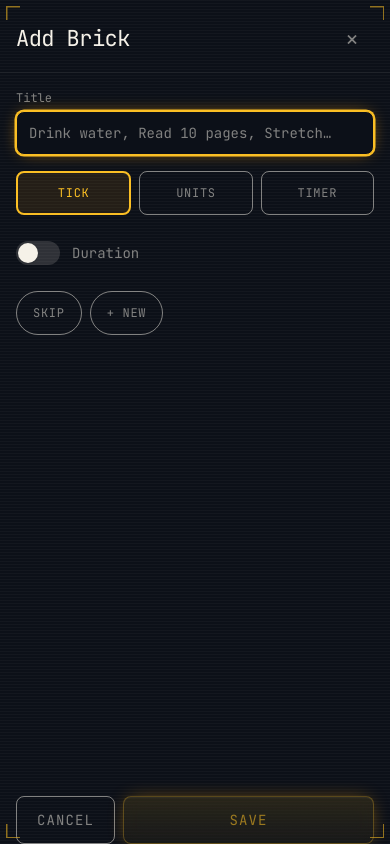
Scenario: C-m3-014: AddBrickSheet type selector › clicking back to Tick hides all per-type fields
The width and height of the screenshot is (390, 844).
What coordinates should you click on to do the following:
click the radio button labelled "Units"
I would click on:
 (196, 193)
Its box is [139, 171, 253, 215].
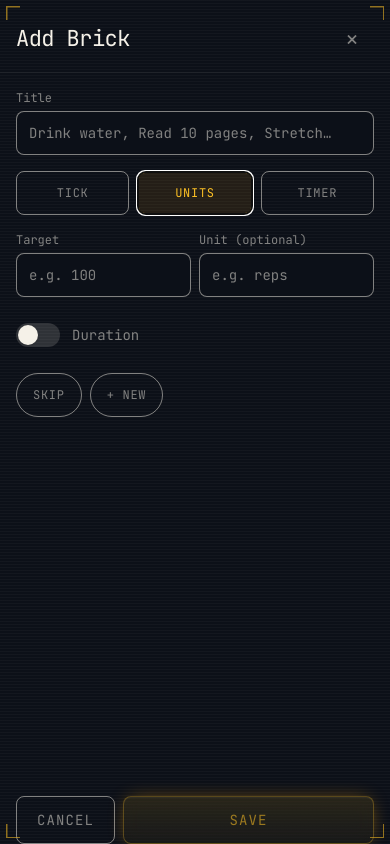
What coordinates should you click on to do the following:
click the radio button labelled "Tick"
I would click on:
 (73, 193)
Its box is [16, 171, 129, 215].
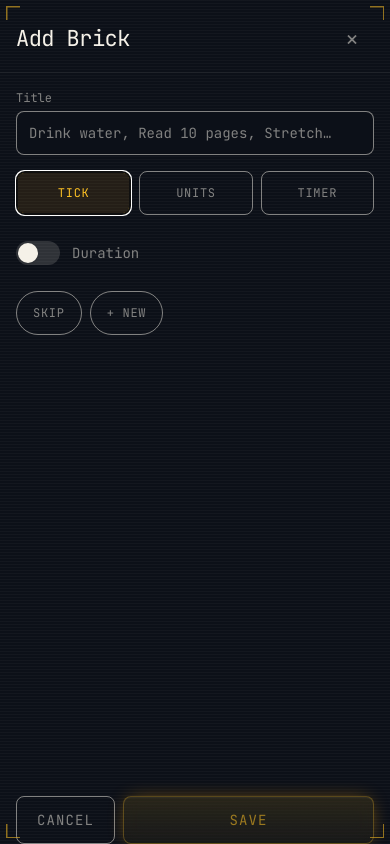
Expected: the label "Target" is gone
